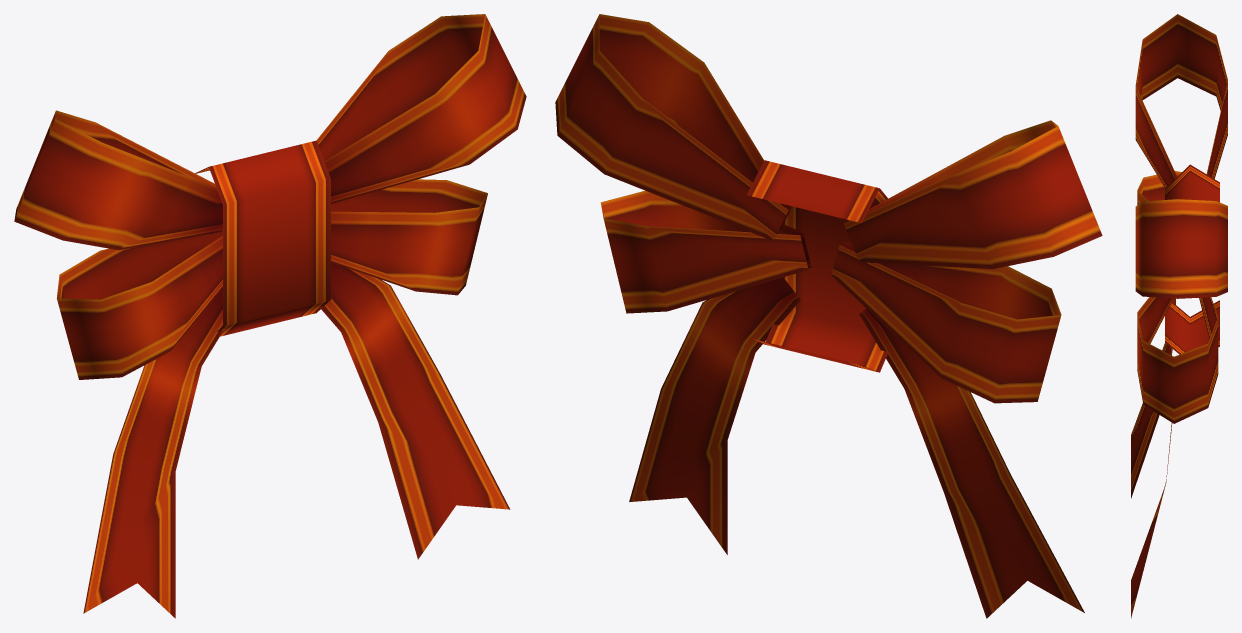
File: RedBow.FBX
The picture shows the model from 3 angles, left to right: view 1: azimuth 30°, elevation 25°; view 2: azimuth 150°, elevation 25°; view 3: azimuth 270°, elevation 25°; orthographic projection. The views are drawn at different scales.
Parts seen in each view (by area): view 1: Object042; view 2: Object042; view 3: Object042.
Boxes of the visible parts, <box> form: Object042: <box>14,14,526,618</box>; Object042: <box>555,14,1102,618</box>; Object042: <box>1131,14,1227,618</box>.
Size of the model in its own units: 17.73 by 16.66 by 3.29.
Materials: 1 (1 with a texture image).
